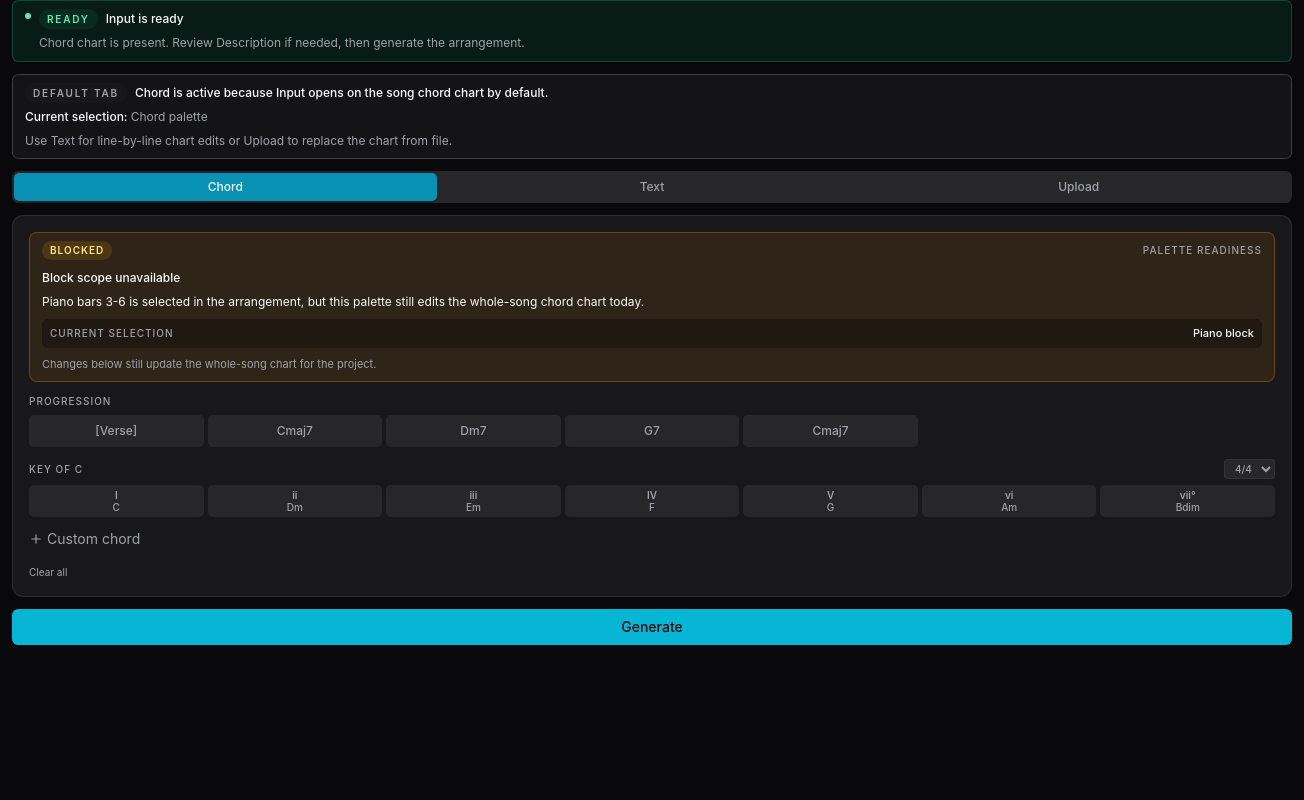
Scenario: InputSection upload tab › keeps block selection visible when uploads still replace the whole-song chart
Click the button "Upload": [1079, 187] box [867,173,1290,201]
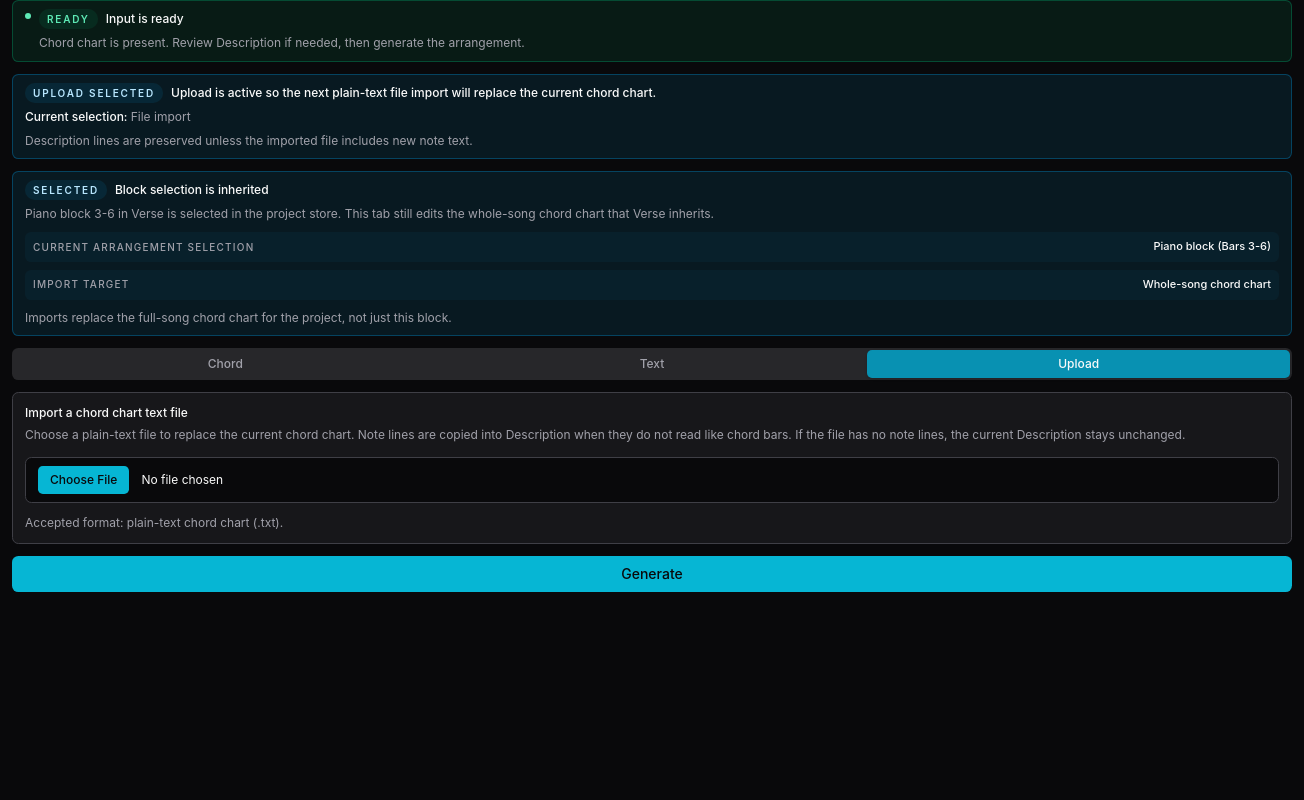
Expected: the element that starts with "Selected" shows "Block selection is inherited", [115,182,269,197]
Expected: the element that starts with "Selected" shows "Piano block 3-6 in Verse is selected in the project store.", [25,206,714,221]
Expected: the element that starts with "Selected" shows "This tab still edits the whole-song chord chart that Verse inherits.", [25,206,714,221]
